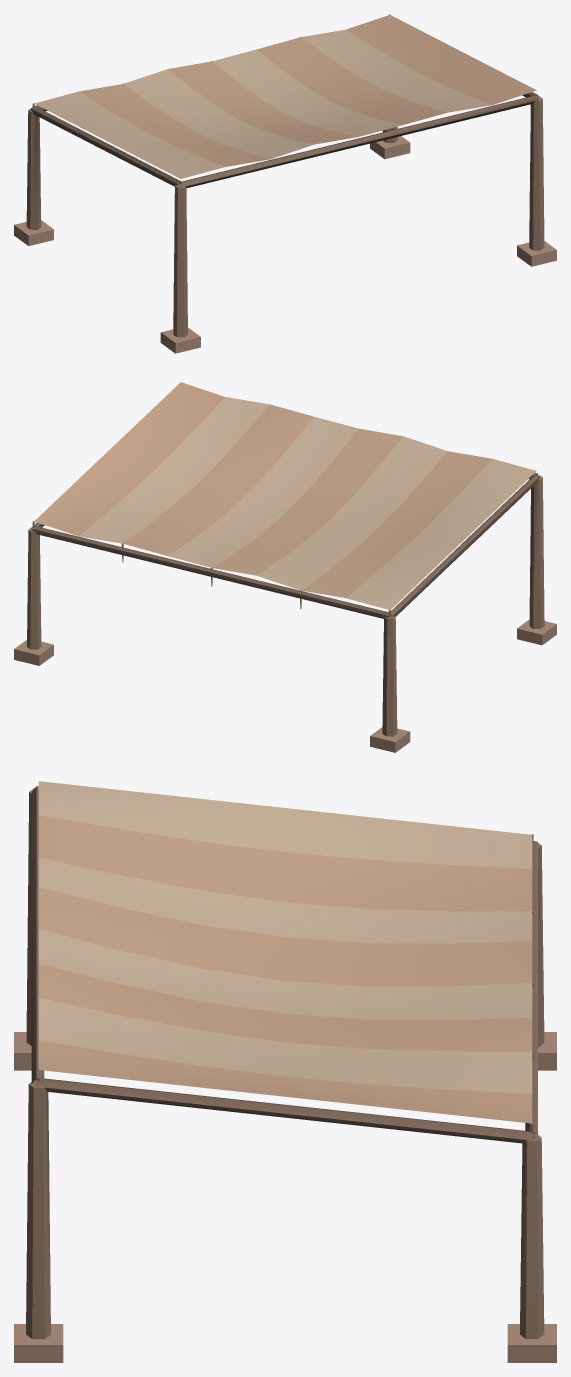
File: shade_awning.glb
3 views of the same model, one above another, from view 1: azimuth 30°, elevation 25°; view 2: azimuth 150°, elevation 25°; view 3: azimuth 270°, elevation 25° (orthographic). The views are drawn at different scales.
Visible parts, largest first — view 1: shade_awning; view 2: shade_awning; view 3: shade_awning.
Part boxes in pixels (box(x1,y1,x2,y2)): shade_awning: box(14, 14, 556, 353); shade_awning: box(14, 382, 556, 752); shade_awning: box(14, 781, 556, 1362).
Size of the model in its own units: 7.5 by 3.16 by 5.5.
